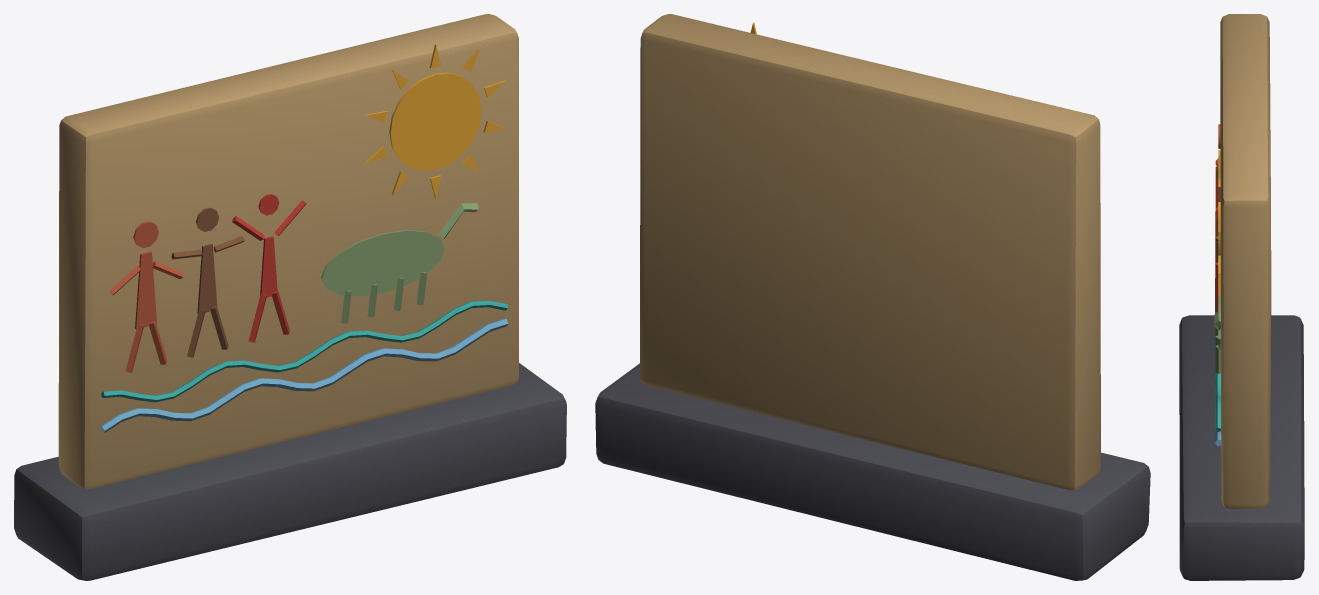
Rendered from deco_mural_slab.fbx.
3 renders of one model, left to right at view 1: azimuth 30°, elevation 25°; view 2: azimuth 150°, elevation 25°; view 3: azimuth 270°, elevation 25°, orthographic. The views are drawn at different scales.
Visible parts, largest first — view 1: MuralSlab_Slab, MuralSlab_Base, MuralSlab_Paint; view 2: MuralSlab_Slab, MuralSlab_Base; view 3: MuralSlab_Slab, MuralSlab_Base, MuralSlab_Paint.
Part boxes in pixels (x1,y1,x2,y2): MuralSlab_Slab: (58, 14, 518, 489); MuralSlab_Base: (14, 363, 566, 580); MuralSlab_Paint: (100, 44, 508, 432); MuralSlab_Slab: (640, 14, 1100, 490); MuralSlab_Base: (595, 363, 1150, 580); MuralSlab_Slab: (1220, 14, 1271, 508); MuralSlab_Base: (1179, 315, 1304, 580); MuralSlab_Paint: (1214, 124, 1221, 446).
Bounding box in the file's own units: 281 × 237 × 70.74.
